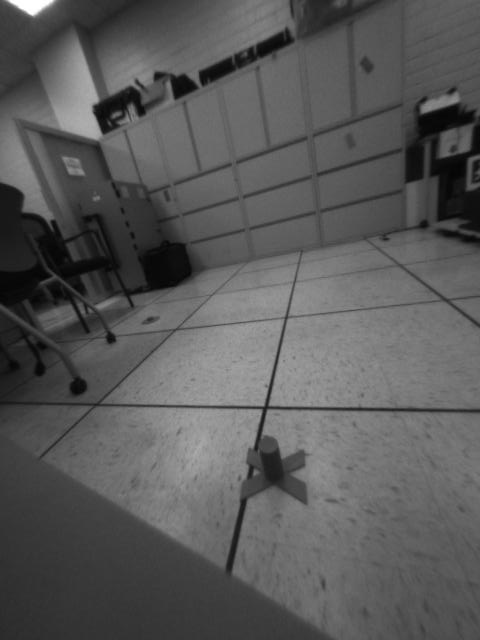X: (239, 434, 309, 505)
